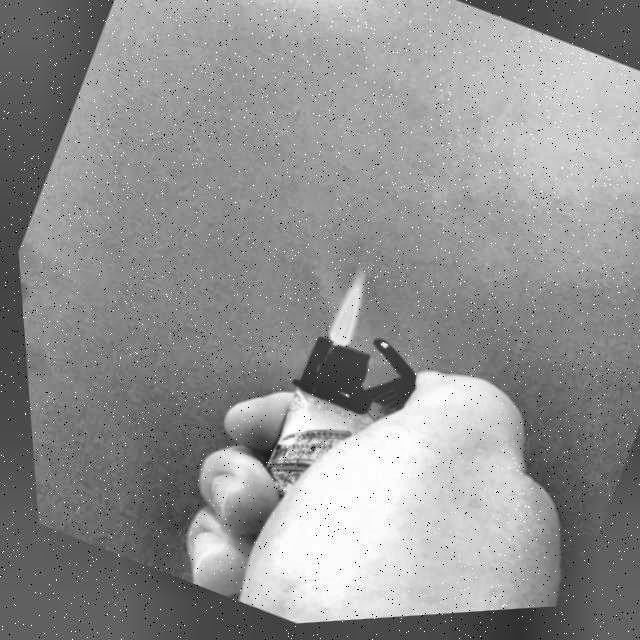Fire: (311, 265, 379, 356)
